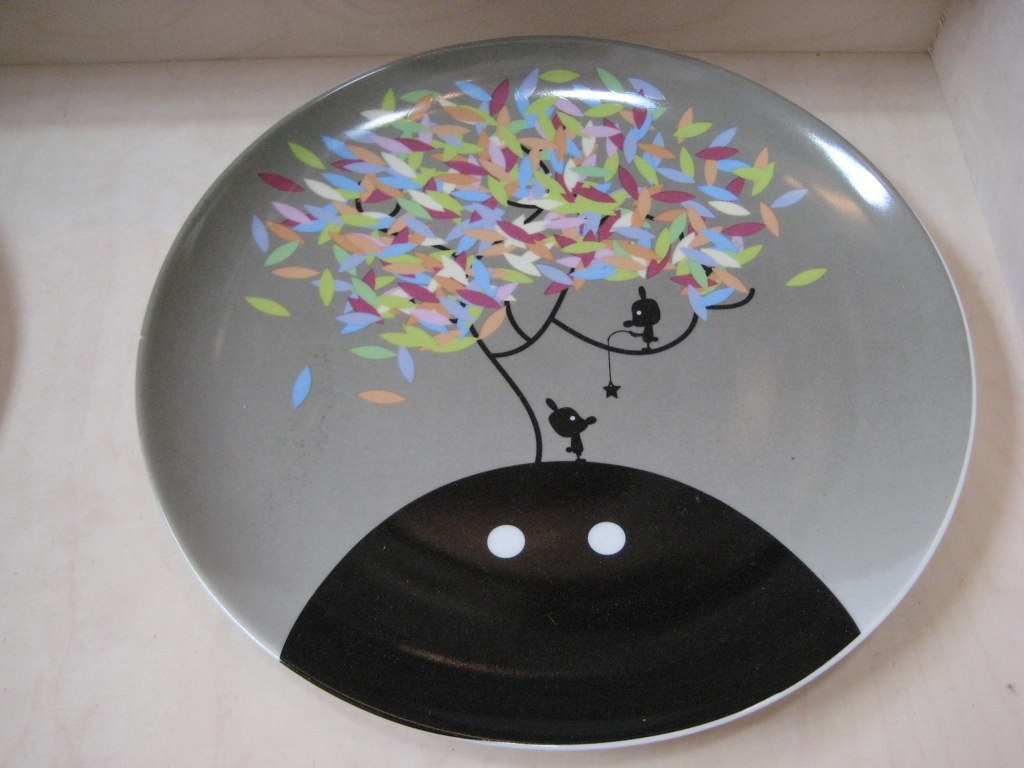plate: (138, 28, 977, 753)
